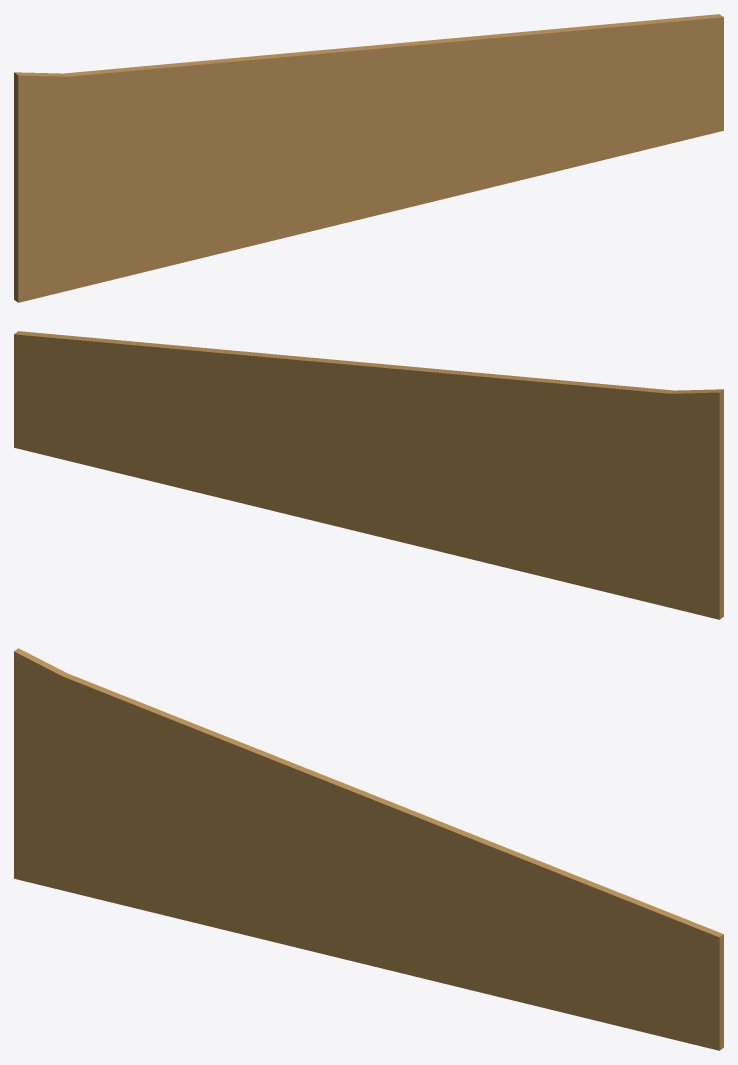
3 views of the same model, one above another, from view 1: azimuth 30°, elevation 25°; view 2: azimuth 150°, elevation 25°; view 3: azimuth 330°, elevation 25° (orthographic).
Parts seen in each view (by area): view 1: shape; view 2: shape; view 3: shape.
Boxes of the visible parts, x1=… form: shape: x1=14, y1=14, x2=723, y2=302; shape: x1=14, y1=331, x2=723, y2=619; shape: x1=14, y1=648, x2=723, y2=1050.
Bounding box in the file's own units: 1.84 × 0.5661 × 0.02.
